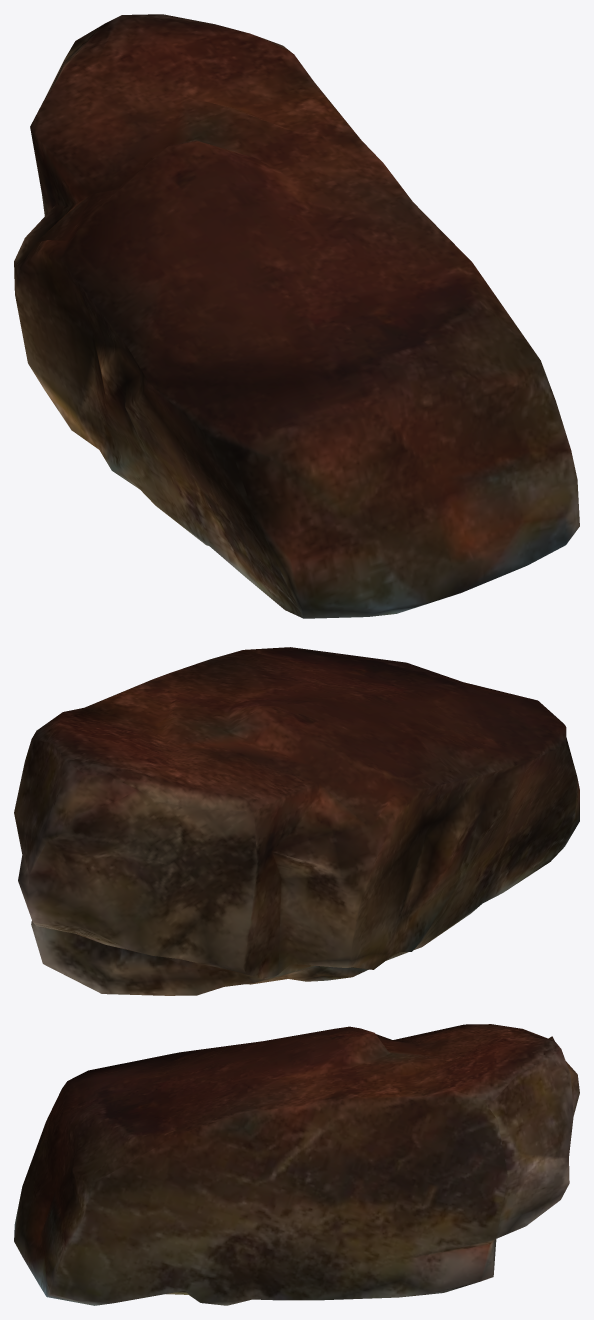
File: rock.glb
3 views of the same model, one above another, from view 1: azimuth 30°, elevation 25°; view 2: azimuth 150°, elevation 25°; view 3: azimuth 270°, elevation 25° (orthographic). The views are drawn at different scales.
Parts seen in each view (by area): view 1: rock_07; view 2: rock_07; view 3: rock_07.
Boxes of the visible parts, x1,y1,x2,y2 form: rock_07: (14,14,579,618); rock_07: (14,647,579,995); rock_07: (14,1024,579,1305).
Size of the model in its own units: 0.1667 by 0.1434 by 0.3194.
1 material, 1 textured.
